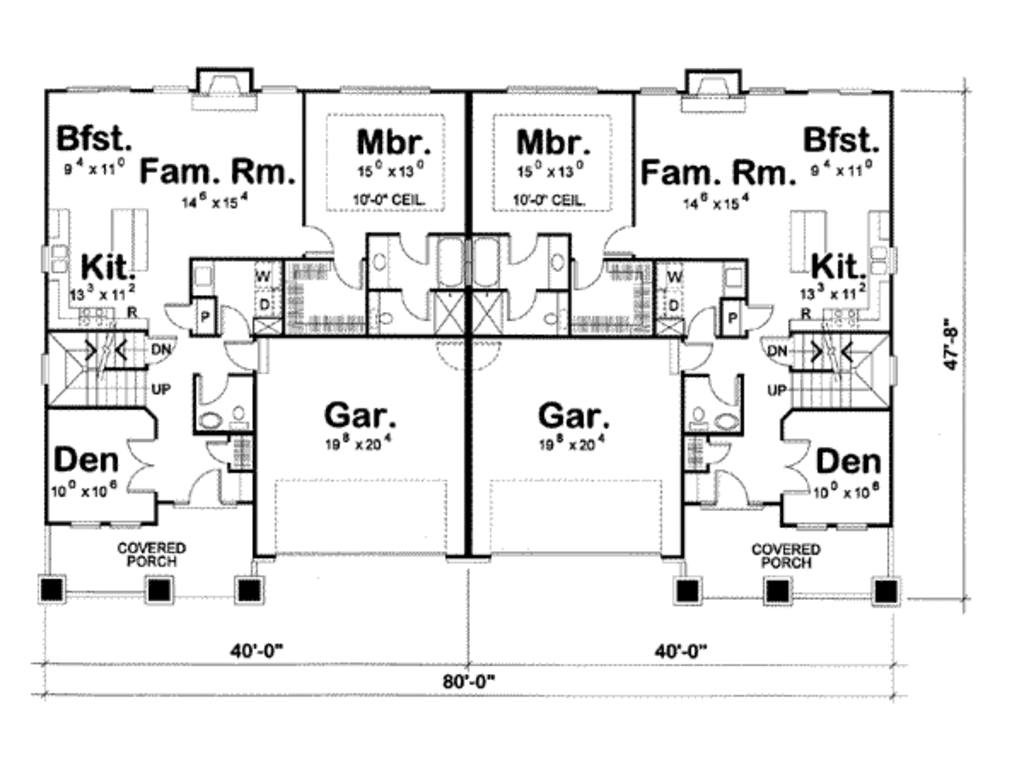door: (216, 338, 276, 377), (124, 435, 162, 495), (711, 467, 761, 512), (778, 433, 812, 498), (181, 466, 226, 509), (703, 369, 742, 408), (139, 327, 177, 367), (396, 230, 433, 271), (600, 217, 636, 259), (160, 298, 199, 336), (503, 224, 540, 264), (329, 250, 362, 293), (191, 372, 232, 406), (672, 344, 718, 374), (503, 285, 538, 322), (686, 308, 721, 343), (572, 259, 604, 297), (741, 301, 777, 334), (302, 219, 334, 256), (221, 305, 254, 340), (202, 439, 239, 470), (400, 284, 431, 321), (763, 335, 793, 368), (701, 437, 732, 468)
large_sink: (543, 301, 570, 334), (366, 304, 392, 335)
small_sink: (546, 237, 569, 293), (368, 234, 388, 284), (192, 406, 228, 429)
stairs: (47, 330, 151, 404), (794, 330, 890, 406)
twin_sink: (867, 241, 897, 278)
window: (505, 79, 599, 97), (335, 79, 436, 95), (635, 75, 679, 101), (62, 80, 140, 94), (146, 78, 191, 95), (748, 83, 788, 100), (110, 519, 149, 536), (258, 81, 299, 95), (66, 519, 108, 532)
